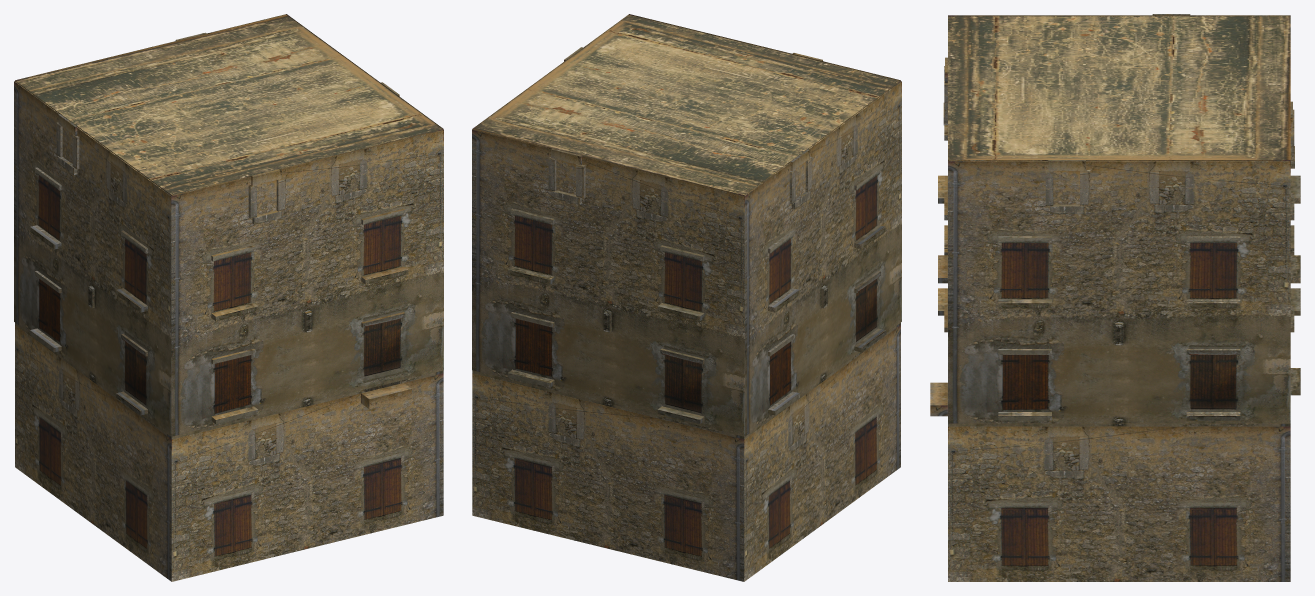
File: BagBuilding18_70.fbx
3 views of the same model, side by side, from view 1: azimuth 30°, elevation 25°; view 2: azimuth 150°, elevation 25°; view 3: azimuth 270°, elevation 25° (orthographic). The views are drawn at different scales.
Parts seen in each view (by area): view 1: Box70, main70, roof70; view 2: Box70, main70, roof70; view 3: Box70, main70, roof70.
Boxes of the visible parts, x1,y1,x2,y2 form: Box70: (14, 81, 443, 436); main70: (15, 14, 443, 581); roof70: (14, 15, 442, 196); Box70: (472, 81, 901, 436); main70: (472, 14, 900, 581); roof70: (473, 15, 901, 196); Box70: (948, 161, 1290, 423); main70: (930, 14, 1300, 581); roof70: (948, 16, 1290, 161).
Size of the model in its own units: 17.75 by 22.81 by 18.16.
